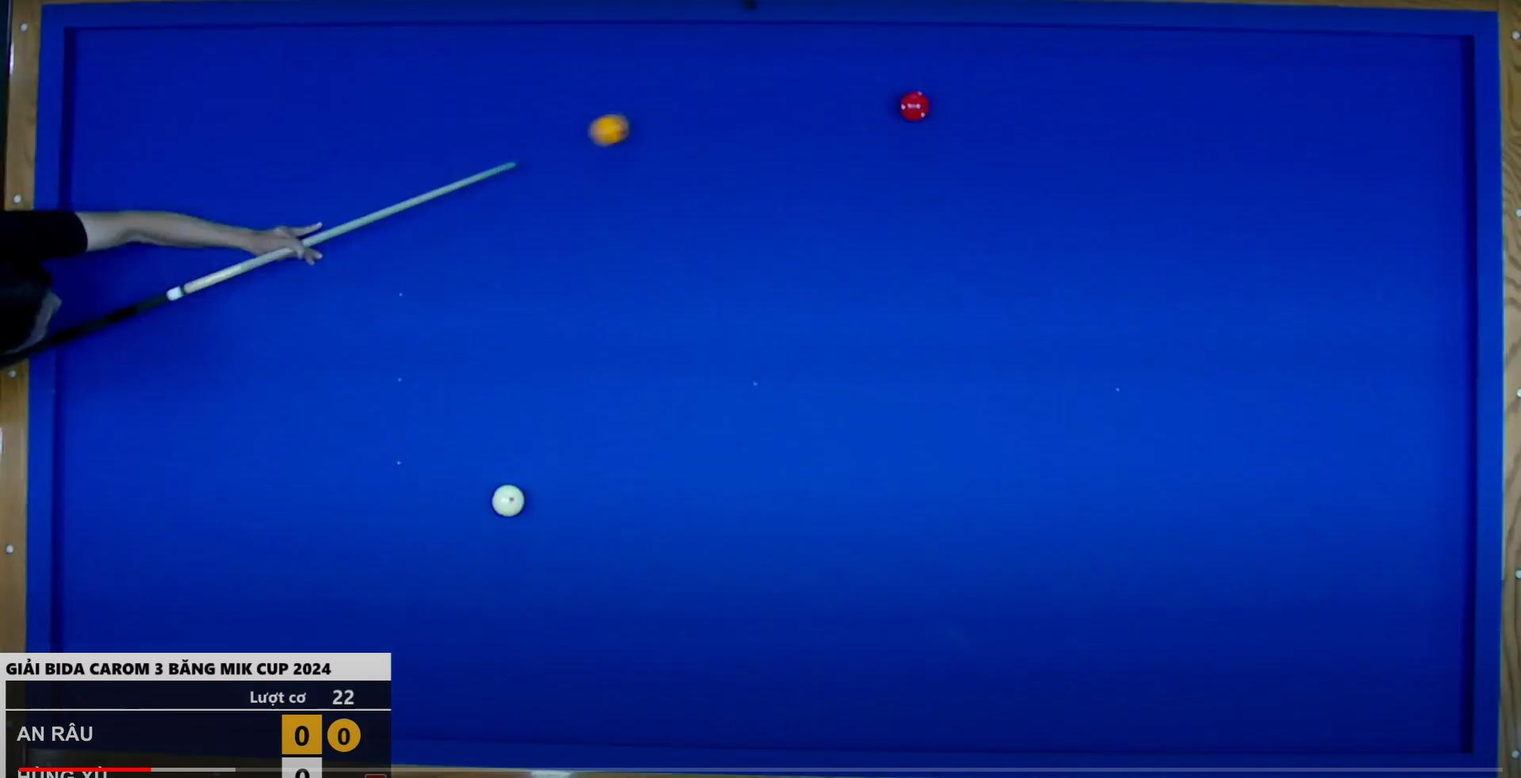red ball: (892, 87, 937, 128)
white ball: (488, 481, 529, 523)
yellow ball: (580, 106, 635, 154)
